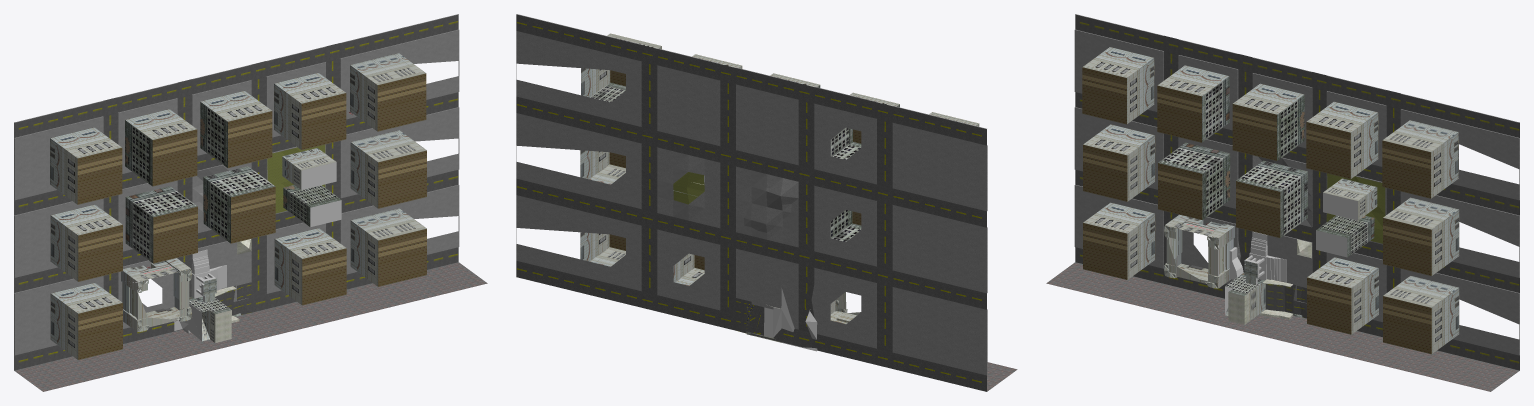
File: DeadDaysCity_wtf.obj
3 renders of one model, left to right at view 1: azimuth 30°, elevation 25°; view 2: azimuth 150°, elevation 25°; view 3: azimuth 330°, elevation 25°, orthographic. The views are drawn at different scales.
Parts seen in each view (by area): view 1: group9, group40, group7, group10, group8, group38, group11, group37, group39, group2, group16, group4 (+2 smaller); view 2: group40, group7, group9, group10, group37, group4, group16, group8, group38; view 3: group9, group40, group7, group10, group8, group38, group37, group11, group39, group16, group2, group18 (+3 smaller).
Boxes of the visible parts, box(x1,y1,x2,y2) form: group9: box(50, 65, 426, 359); group40: box(14, 14, 459, 355); group7: box(14, 14, 458, 370); group10: box(50, 53, 426, 313); group8: box(14, 262, 487, 391); group38: box(125, 102, 340, 299); group11: box(121, 258, 191, 331); group37: box(125, 186, 197, 263); group39: box(189, 166, 275, 313); group2: box(301, 162, 341, 227); group16: box(174, 249, 226, 333); group4: box(267, 144, 325, 213); group40: box(516, 14, 987, 375); group7: box(516, 14, 986, 391); group9: box(580, 46, 979, 282); group10: box(589, 33, 978, 285); group37: box(590, 82, 861, 241); group4: box(673, 172, 704, 204); group16: box(773, 307, 817, 351); group8: box(987, 362, 1017, 391); group38: box(673, 85, 899, 238); group9: box(1082, 58, 1459, 354); group40: box(1074, 14, 1519, 355); group7: box(1075, 14, 1519, 370); group10: box(1082, 47, 1458, 307); group8: box(1046, 262, 1519, 391); group38: box(1202, 94, 1373, 275); group37: box(1158, 76, 1374, 257); group11: box(1164, 214, 1234, 287); group39: box(1225, 160, 1307, 295); group16: box(1229, 231, 1286, 282); group2: box(1316, 192, 1357, 257); group18: box(1228, 239, 1311, 324).
Size of the model in its own units: 660 by 353 by 80.61.
